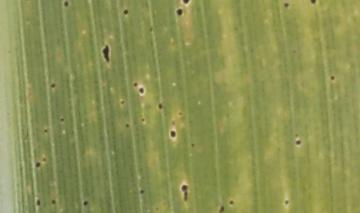tarspot: (100, 43, 112, 64), (180, 183, 189, 203), (174, 7, 185, 17), (168, 129, 177, 140), (217, 204, 227, 213), (157, 101, 164, 112), (121, 8, 130, 16), (175, 109, 183, 118), (138, 86, 145, 96), (282, 1, 290, 9), (58, 116, 66, 124), (228, 198, 235, 207), (34, 198, 41, 207), (118, 98, 125, 107), (294, 139, 302, 146), (329, 74, 336, 82), (48, 82, 56, 89), (82, 199, 89, 207), (50, 198, 58, 205), (33, 161, 41, 168), (131, 81, 138, 89), (147, 25, 154, 33), (283, 198, 289, 207), (137, 188, 146, 194), (181, 1, 191, 6), (40, 155, 47, 162), (189, 142, 195, 150), (139, 116, 145, 124), (170, 118, 175, 127), (63, 1, 69, 8), (124, 122, 130, 129), (42, 128, 49, 134), (309, 1, 317, 6)
